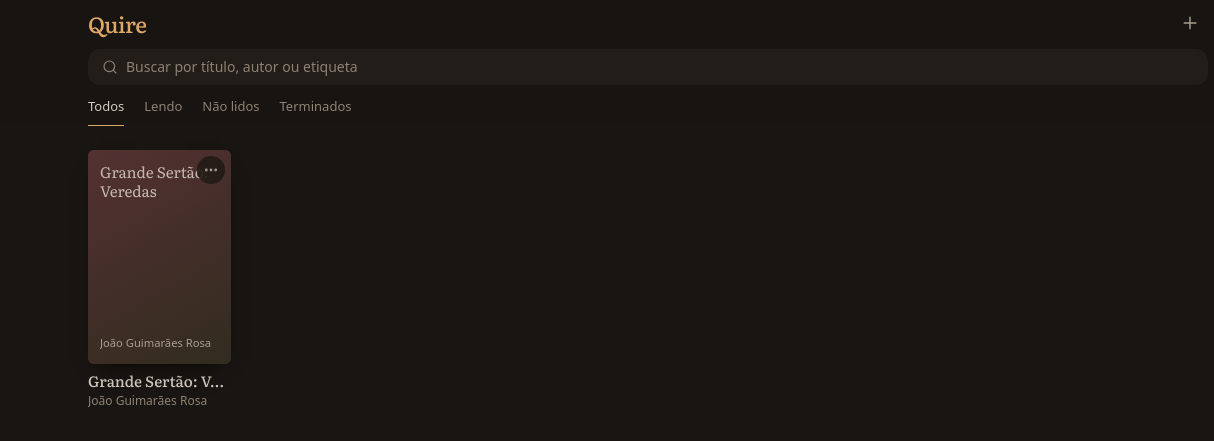
Scenario: LibraryScreen — menu do livro › remover só o arquivo mantém o livro na estante
The width and height of the screenshot is (1214, 441).
Click the button named "opções de grande sertão" at (211, 170), box [197, 156, 225, 184]
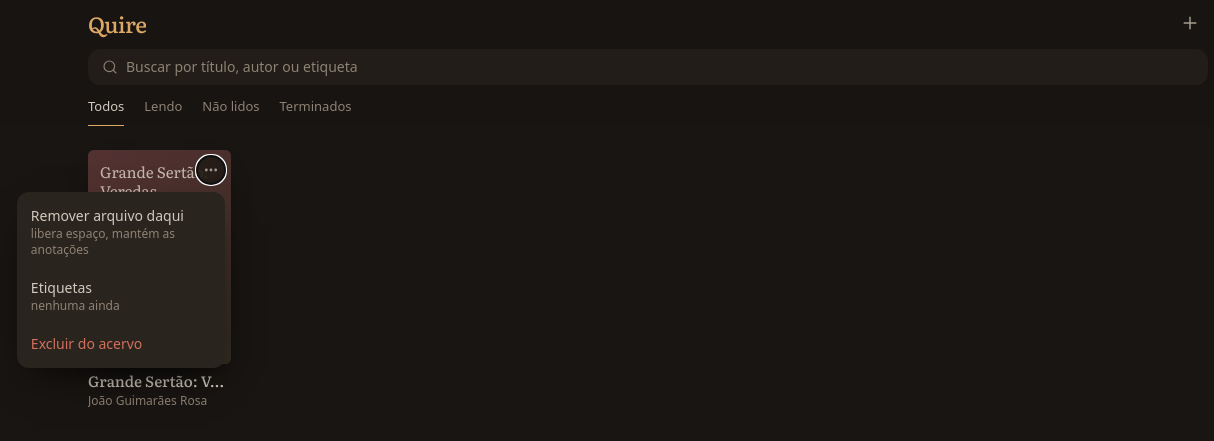
Click the button "Remover arquivo daqui libera espaço, mantém as anotações" at (121, 232), box [17, 196, 225, 268]
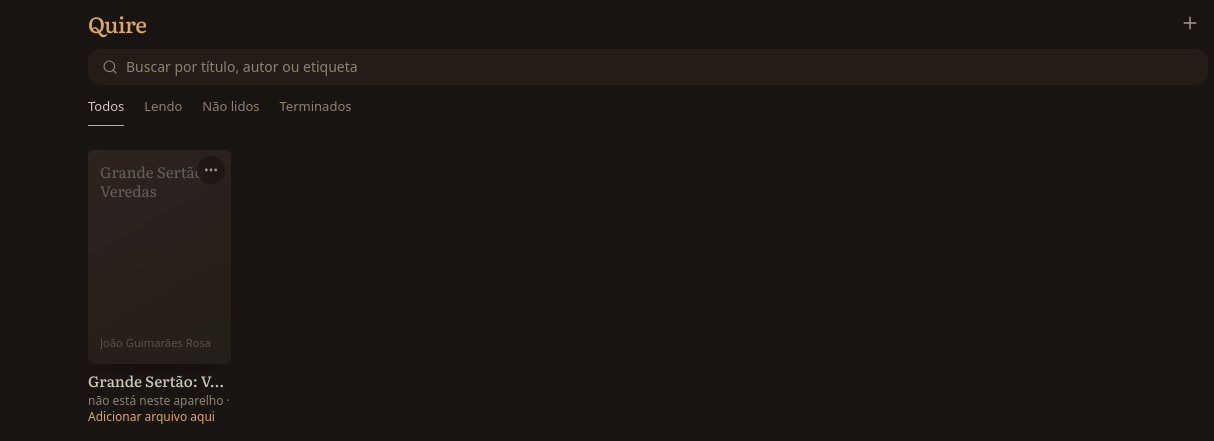
Expected: the text "não está neste aparelho · Adicionar arquivo aqui" is shown, [88, 392, 231, 424]
